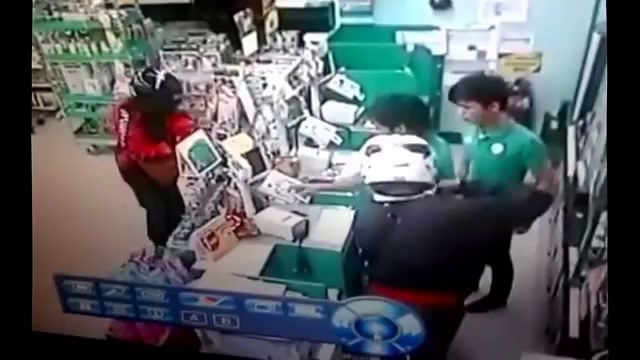helmet: (357, 133, 440, 197), (126, 62, 186, 111)
